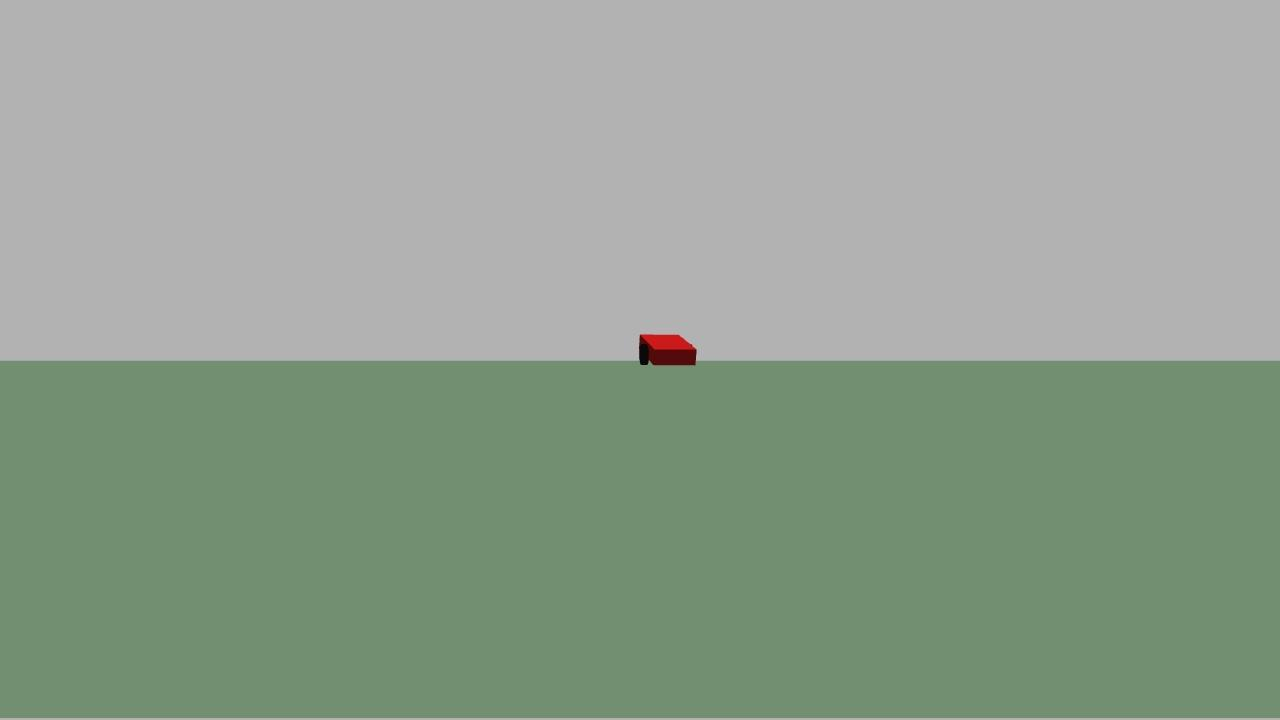ground_vehicle: (630, 324, 704, 375)
